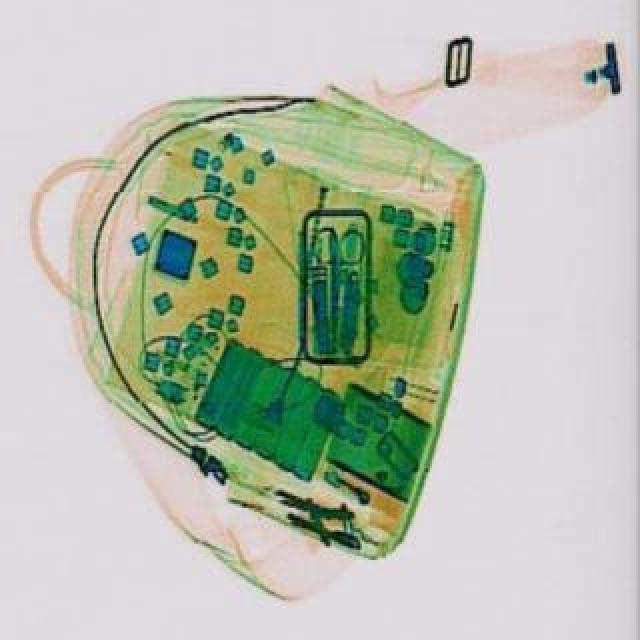pliers: (308, 232, 368, 334)
